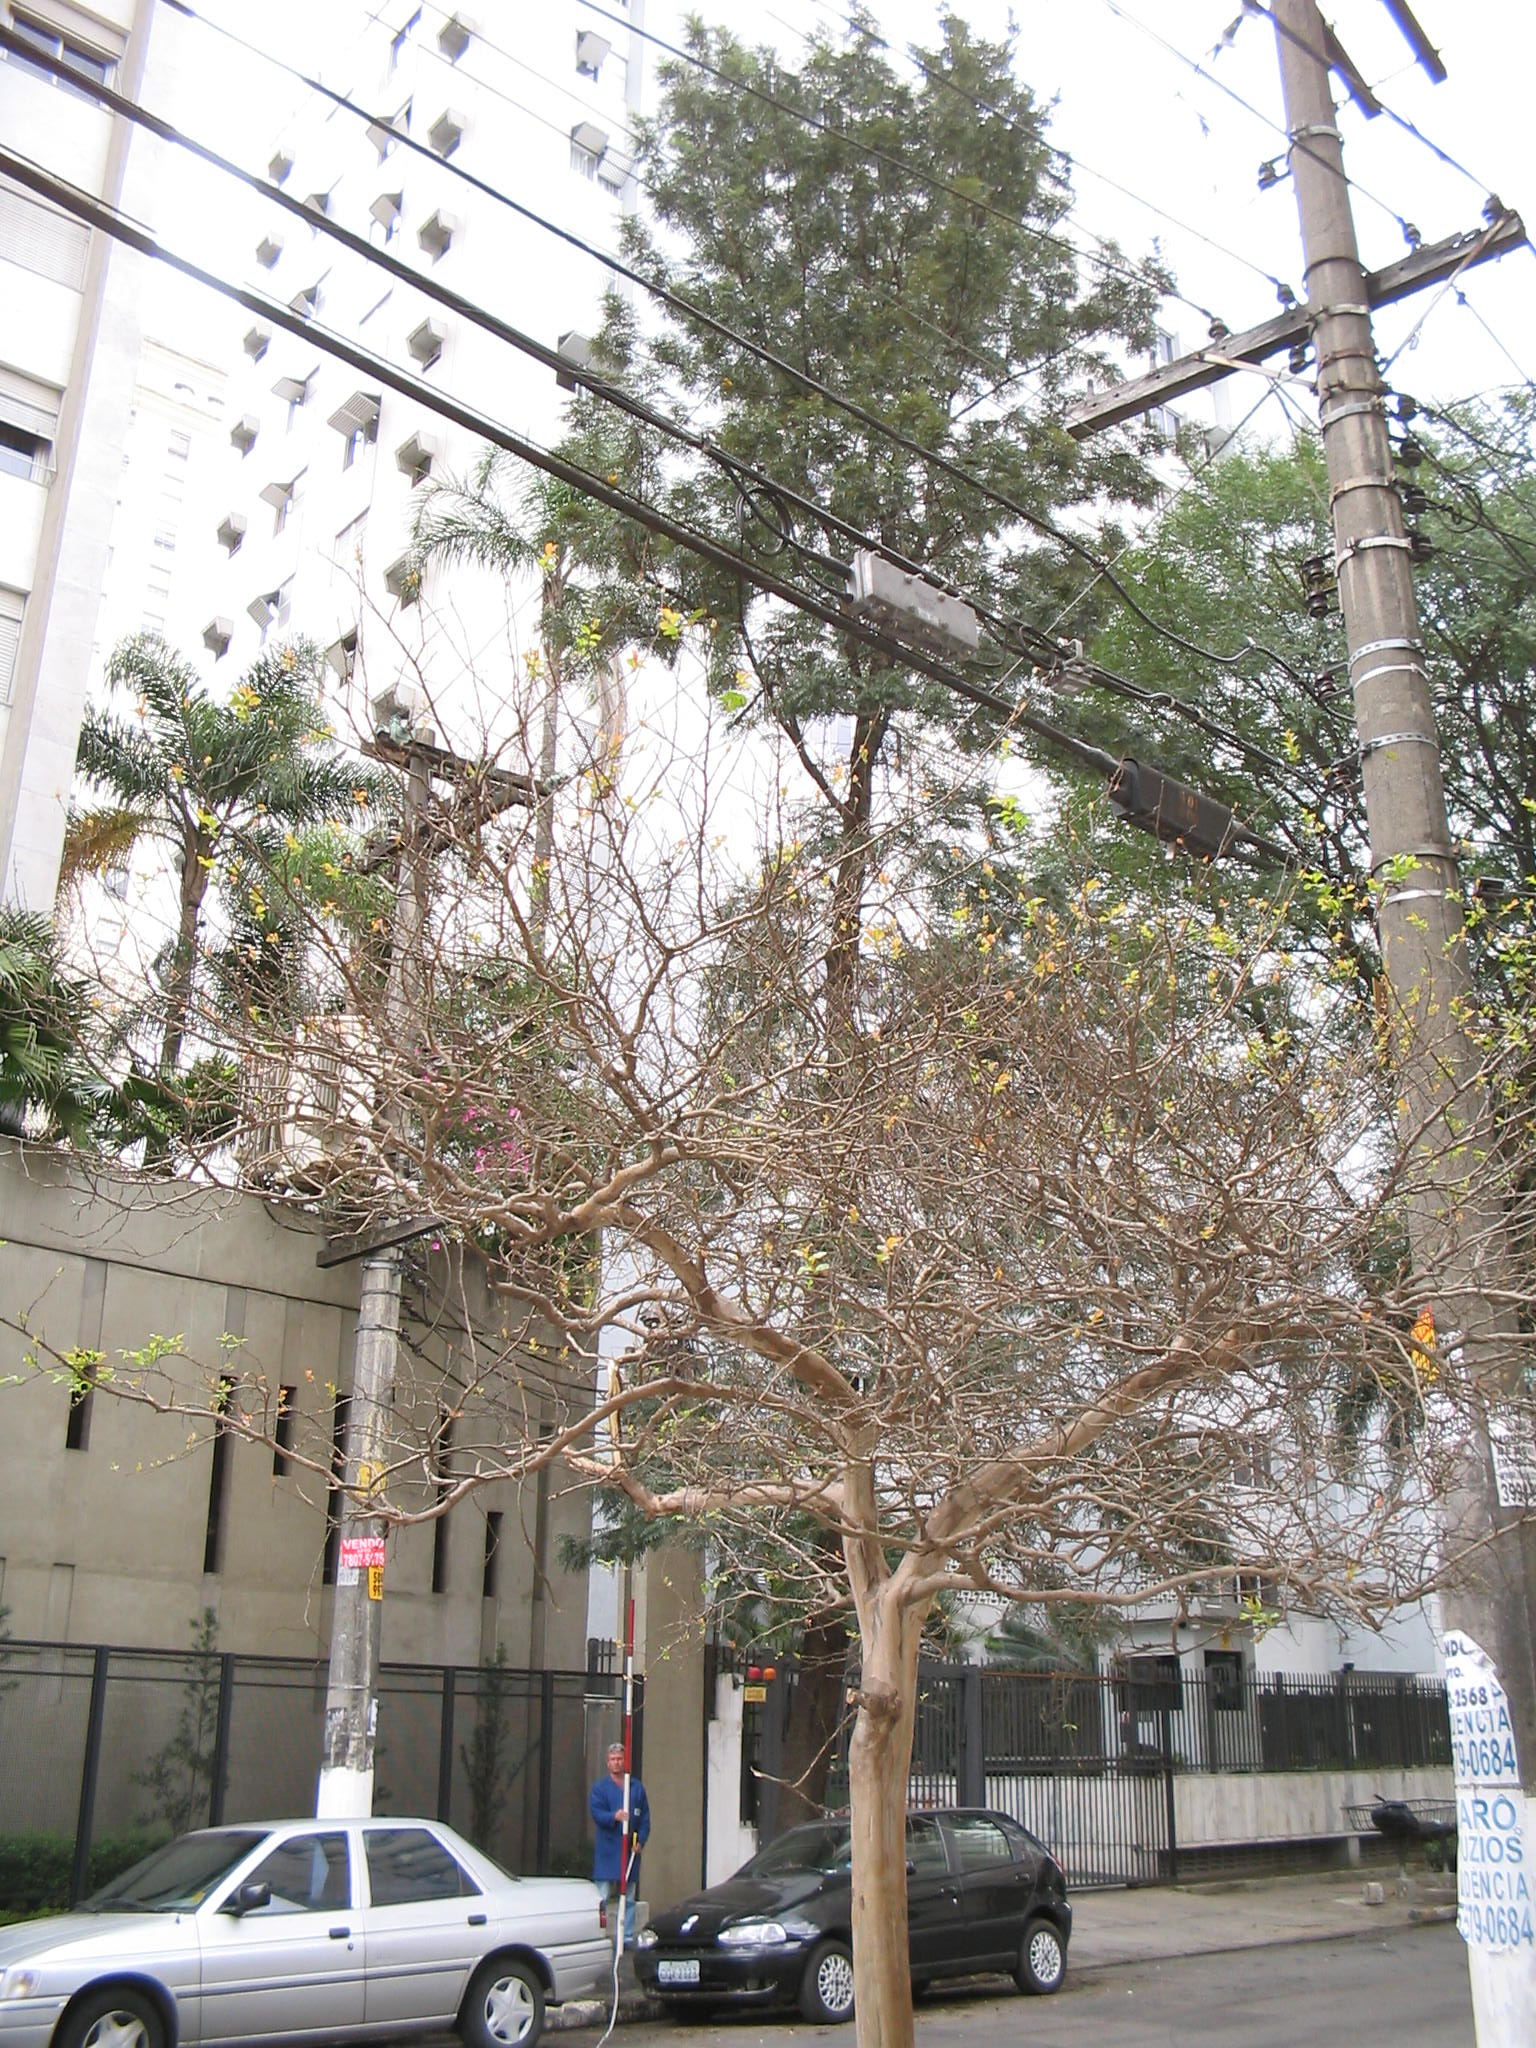stem: (791, 1616, 973, 2045)
stick: (602, 1595, 652, 1959)
tree: (19, 587, 1536, 2045)
